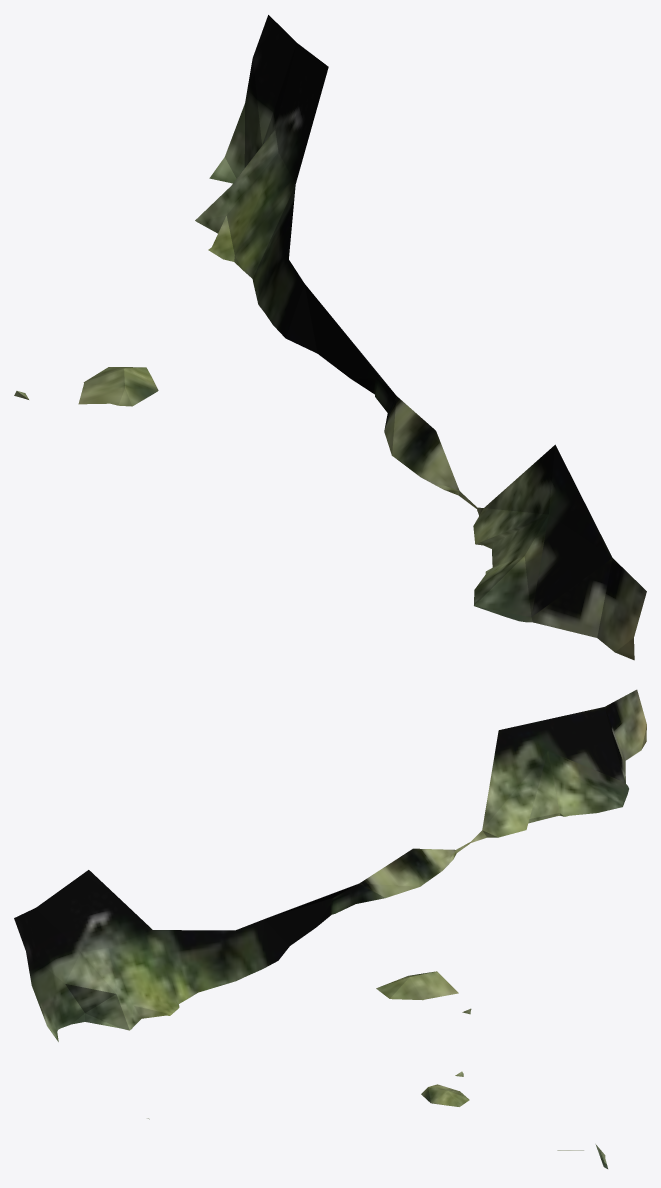
3 views of the same model, one above another, from view 1: azimuth 30°, elevation 25°; view 2: azimuth 150°, elevation 25°; view 3: azimuth 270°, elevation 25° (orthographic). The views are drawn at different scales.
Size of the model in its own units: 38.88 by 13.89 by 94.38.
Materials: 1 (1 with a texture image).
